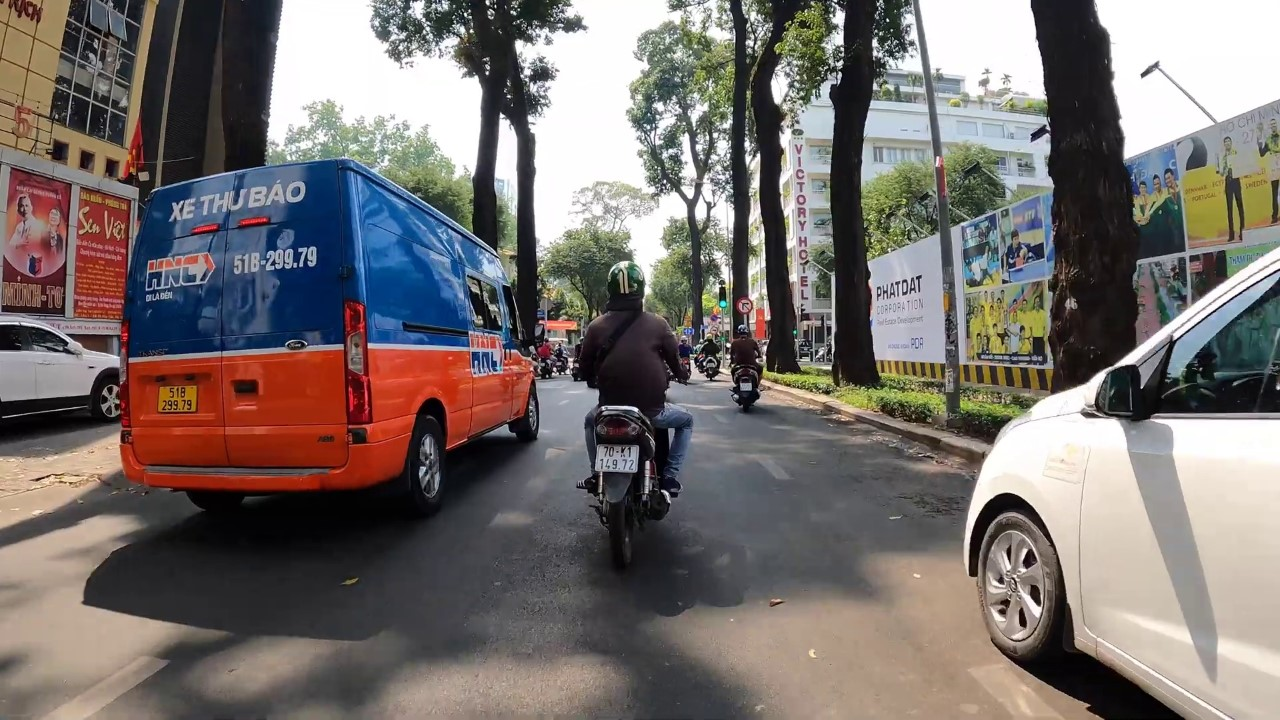cam_do_xe: (710, 314, 719, 323)
cam_re_phai: (736, 297, 754, 315)
